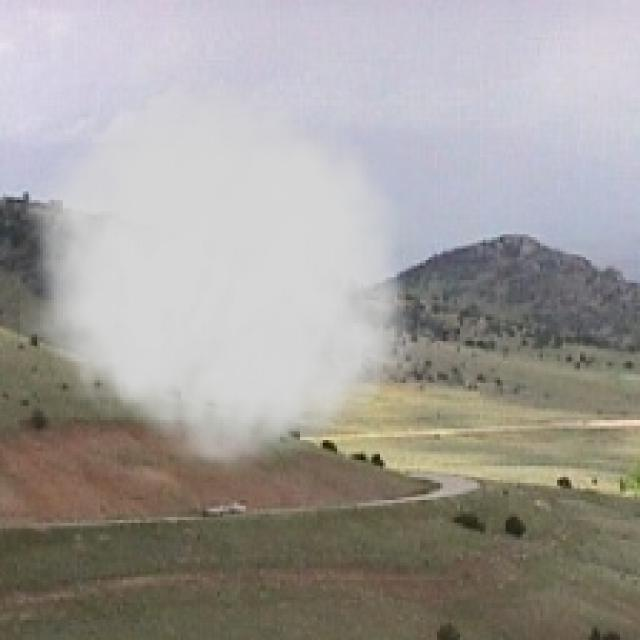smoke: (20, 60, 431, 486)
